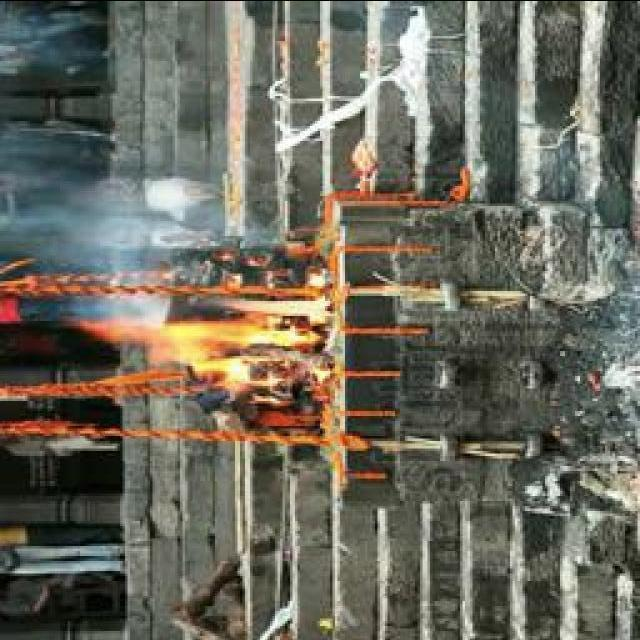Fire: (94, 285, 332, 387)
